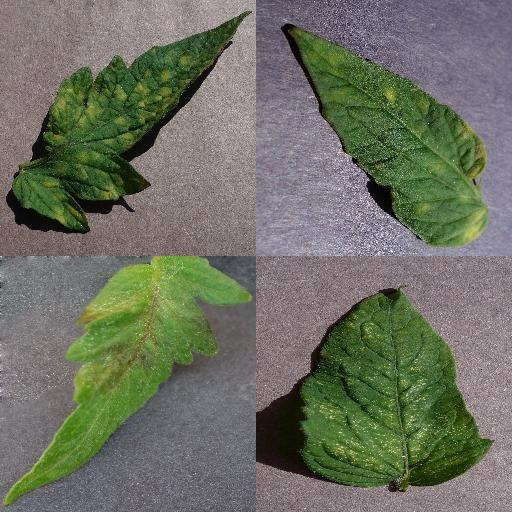Late Blight: (0, 256, 254, 504)
Leaf Mold: (14, 12, 249, 236), (286, 24, 488, 248)
Spider Mites: (300, 286, 494, 490)
